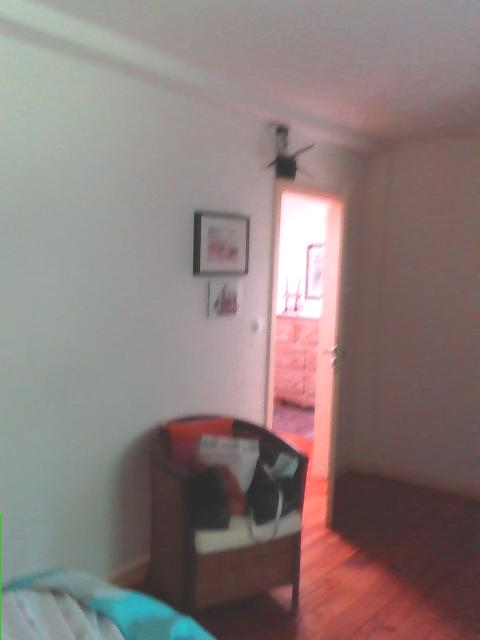semi_door: (263, 172, 368, 529)
